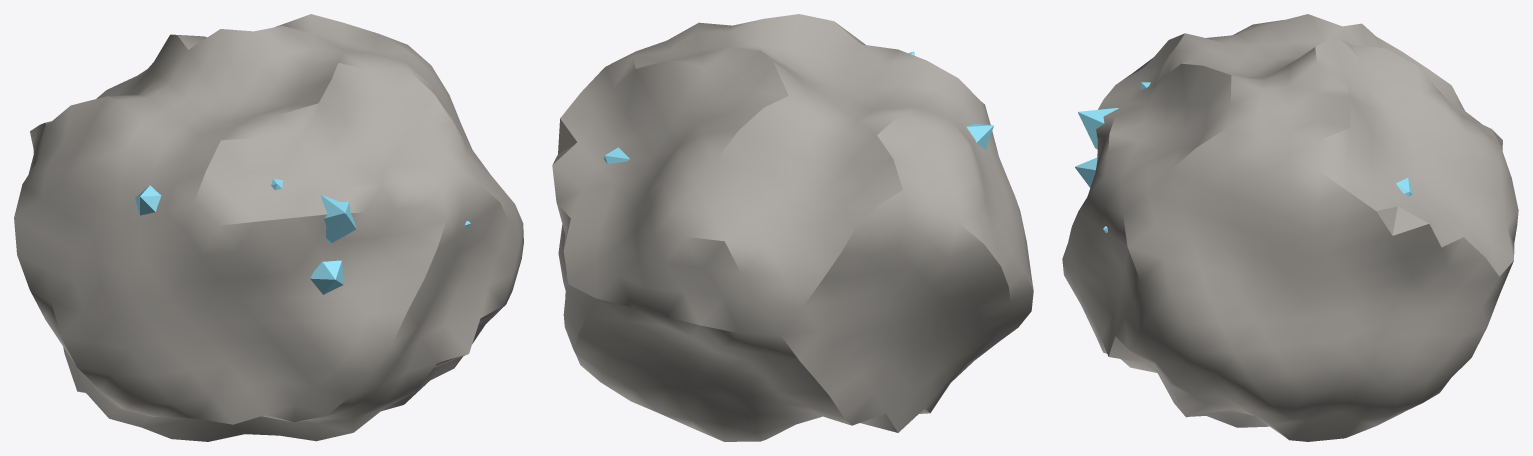
File: ore_deposit.fbx
3 views of the same model, side by side, from view 1: azimuth 30°, elevation 25°; view 2: azimuth 150°, elevation 25°; view 3: azimuth 270°, elevation 25° (orthographic). The views are drawn at different scales.
Visible parts, largest first — view 1: ore_deposit_LOD0; view 2: ore_deposit_LOD0; view 3: ore_deposit_LOD0.
Part boxes in pixels (x1=…): ore_deposit_LOD0: x1=14, y1=14, x2=523, y2=441; ore_deposit_LOD0: x1=552, y1=14, x2=1033, y2=441; ore_deposit_LOD0: x1=1062, y1=14, x2=1518, y2=441.
Size of the model in its own units: 3.47 by 2.78 by 3.16.
